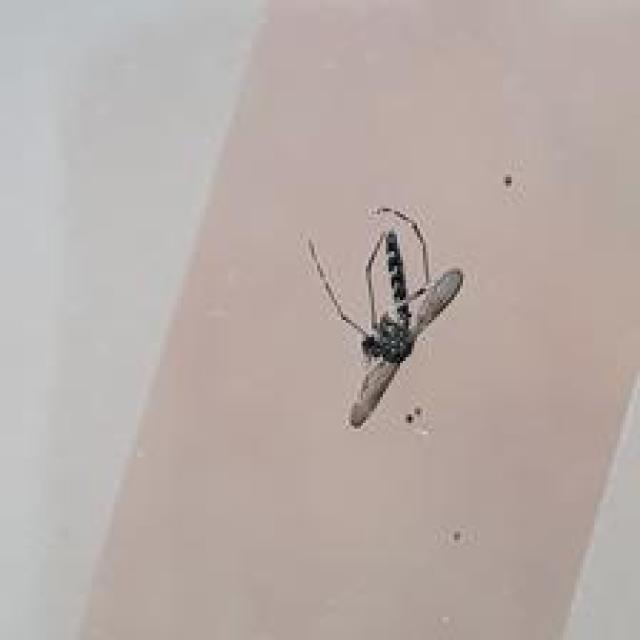Aedes albopictus: (306, 204, 466, 430)
